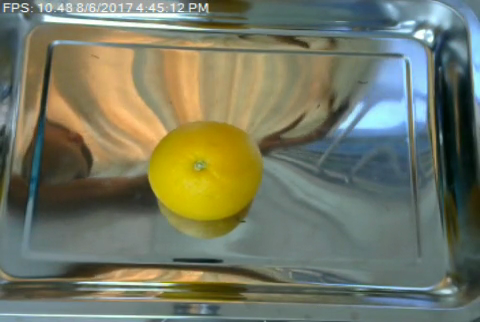Orange: (145, 121, 263, 222)
